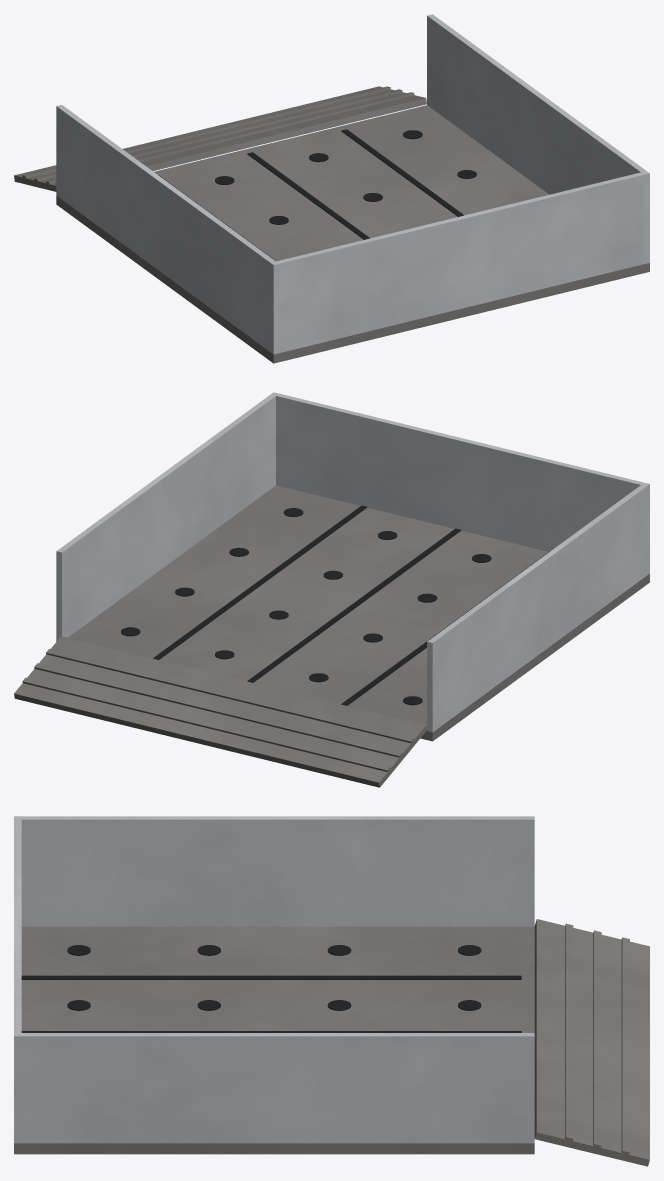
The model's file is rover25_cargo_bed_m_tailgate_open.glb.
3 renders of one model, top to bottom at view 1: azimuth 30°, elevation 25°; view 2: azimuth 150°, elevation 25°; view 3: azimuth 270°, elevation 25°, orthographic. The views are drawn at different scales.
Visible parts, largest first — view 1: side_walls, floor, front_wall, tailgate, tie_down_rails, sockets; view 2: floor, side_walls, front_wall, tailgate, tie_down_rails, sockets; view 3: side_walls, floor, tailgate, tie_down_rails, sockets, front_wall.
Part boxes in pixels (box(x1,y1,x2,y2)): side_walls: box(56, 14, 649, 354); floor: box(56, 105, 649, 363); front_wall: box(276, 172, 644, 352); tailgate: box(14, 86, 426, 191); tie_down_rails: box(158, 129, 464, 260); sockets: box(215, 130, 476, 224); floor: box(56, 485, 649, 741); side_walls: box(56, 392, 649, 732); front_wall: box(276, 393, 643, 551); tailgate: box(14, 636, 426, 787); tie_down_rails: box(153, 505, 549, 705); sockets: box(121, 508, 491, 705); side_walls: box(14, 816, 534, 1143); floor: box(14, 926, 534, 1154); tailgate: box(534, 919, 649, 1166); tie_down_rails: box(21, 975, 521, 1032); sockets: box(67, 945, 481, 1010); front_wall: box(14, 819, 21, 1032).
Size of the model in its own units: 2 by 0.5665 by 2.44.
3 materials, 2 textured.
